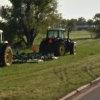Tractor: (30, 20, 92, 60)
